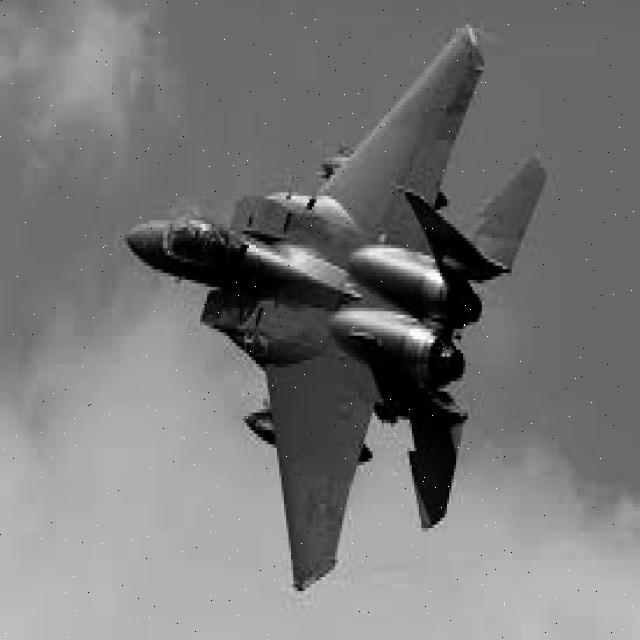F15: (103, 22, 599, 634)
